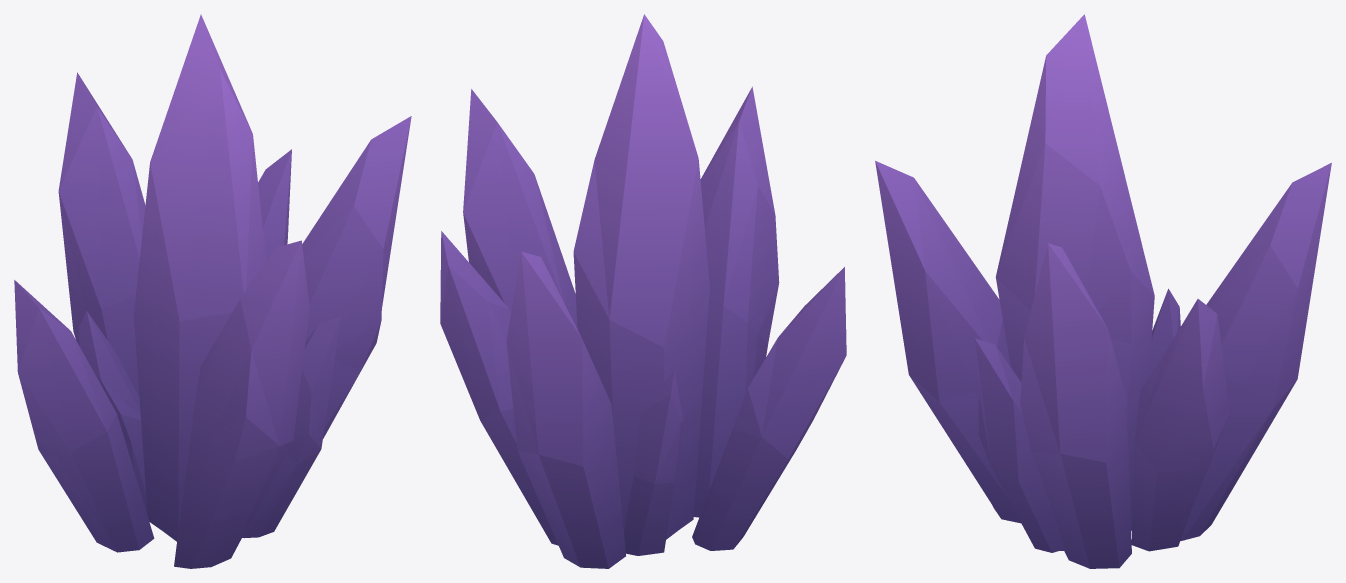
The model's file is Crystal_P_2.glb.
The picture shows the model from 3 angles, left to right: view 1: azimuth 30°, elevation 25°; view 2: azimuth 150°, elevation 25°; view 3: azimuth 270°, elevation 25°; orthographic projection.
Visible parts, largest first — view 1: crystal_2; view 2: crystal_2; view 3: crystal_2.
Part boxes in pixels (bbox=[...]): crystal_2: bbox=[14, 14, 411, 568]; crystal_2: bbox=[440, 14, 846, 568]; crystal_2: bbox=[875, 14, 1331, 568].
Bounding box in the file's own units: 0.7909 × 1 × 0.8097.
1 material, 1 textured.
